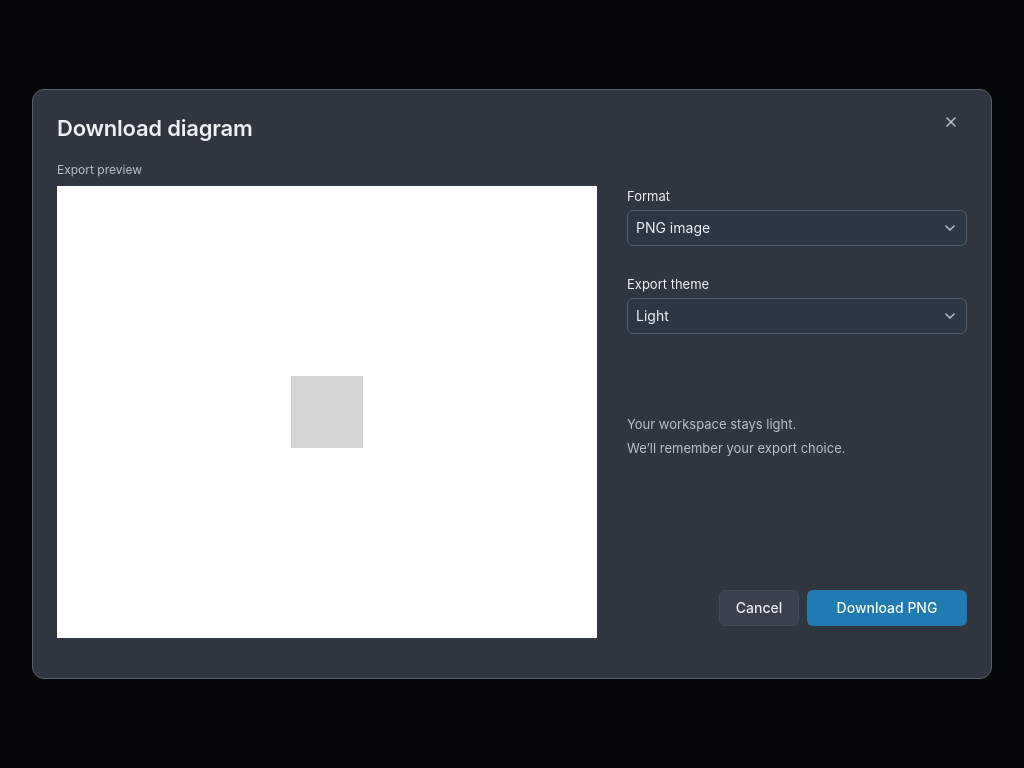
Test case: ExportDialog › keeps the dialog open when starting the browser download throws and allows the same PNG to retry
Click the button "Download PNG" at (887, 608), box x1=807 y1=590 x2=967 y2=626
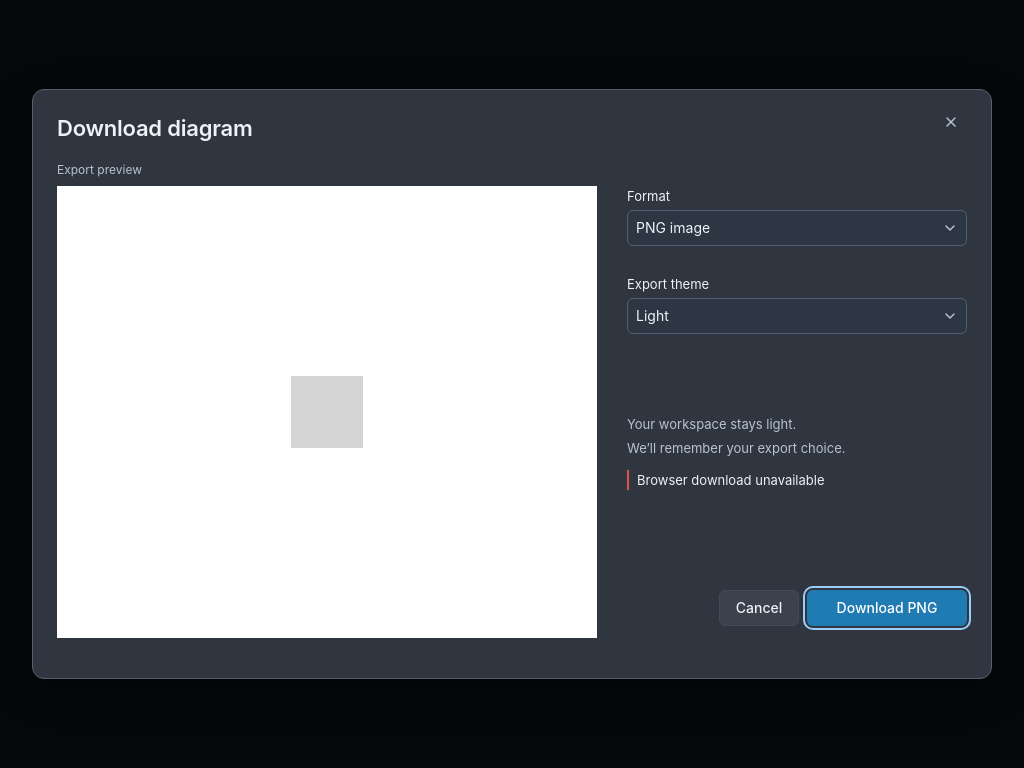
Check: the message reads "Browser download unavailable", box x1=637 y1=472 x2=824 y2=488
Click the button "Download PNG" at (887, 608), box x1=807 y1=590 x2=967 y2=626
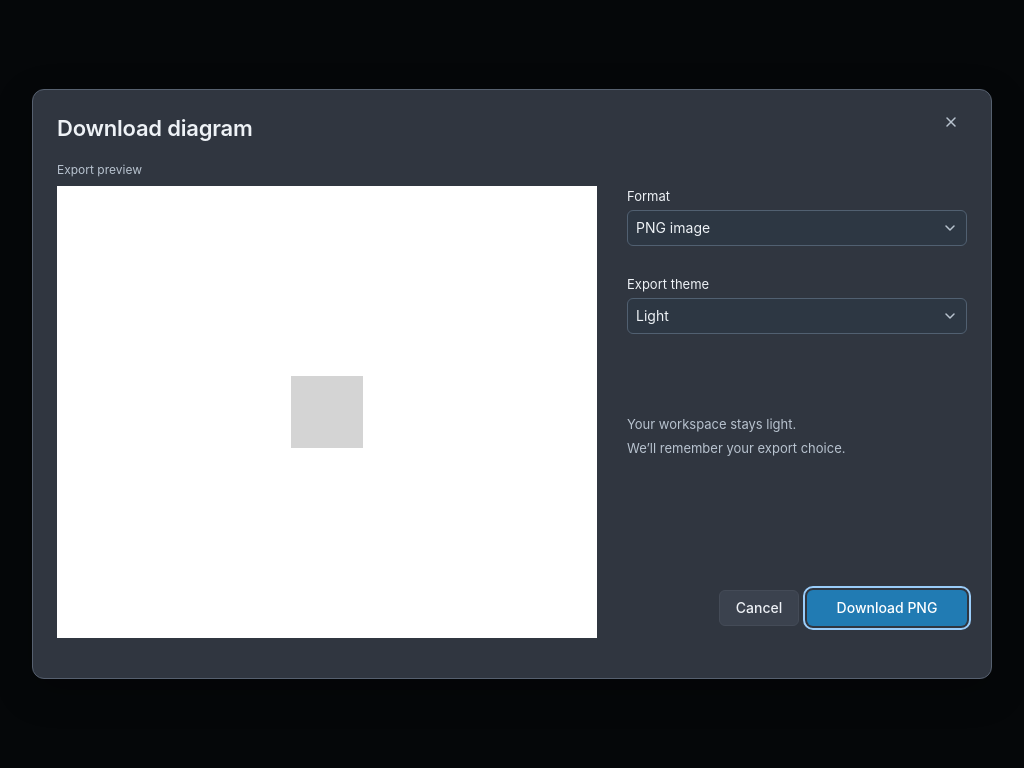
Check: the message "Browser download unavailable" is gone
